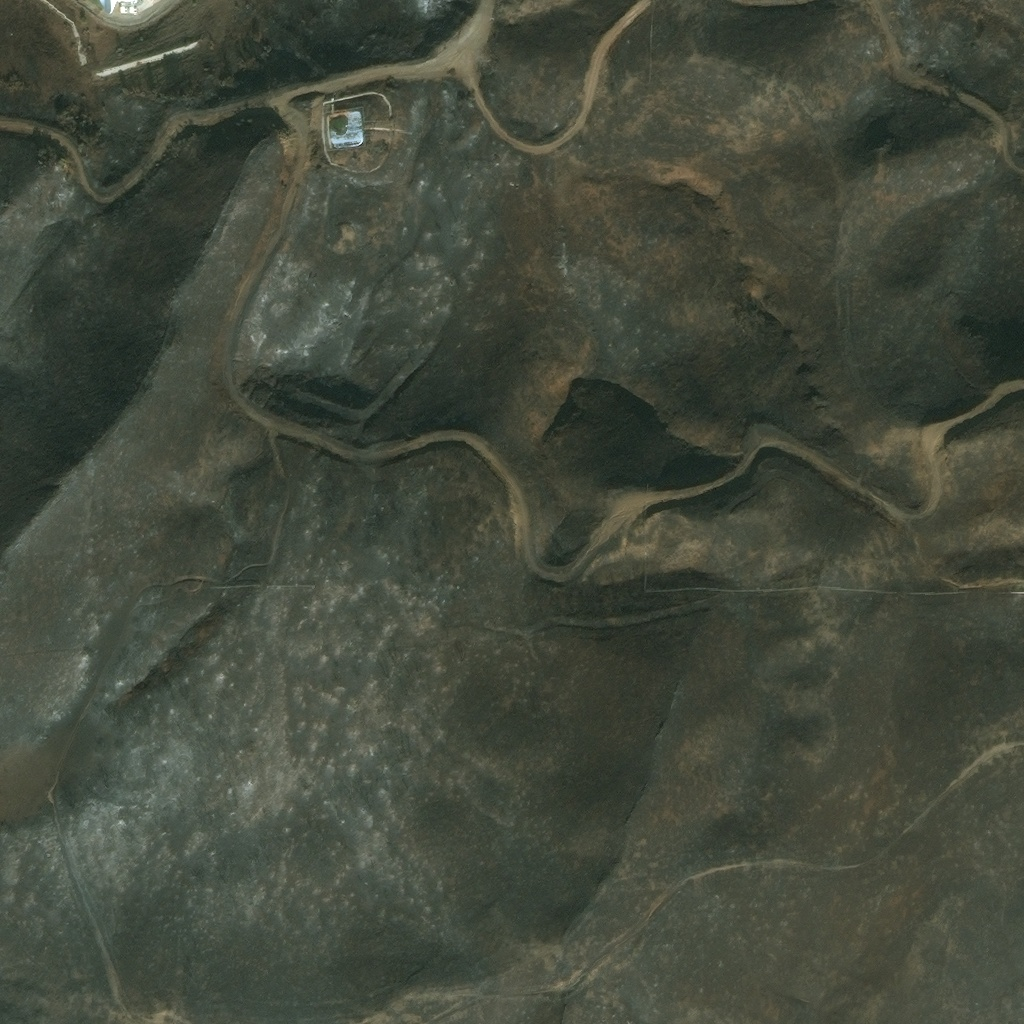0 no-damage: (326, 109, 364, 149)
4 un-classified: (98, 0, 118, 14)
